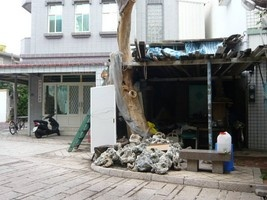bucket: (216, 131, 232, 156)
plastic_bag: (147, 41, 225, 59)
